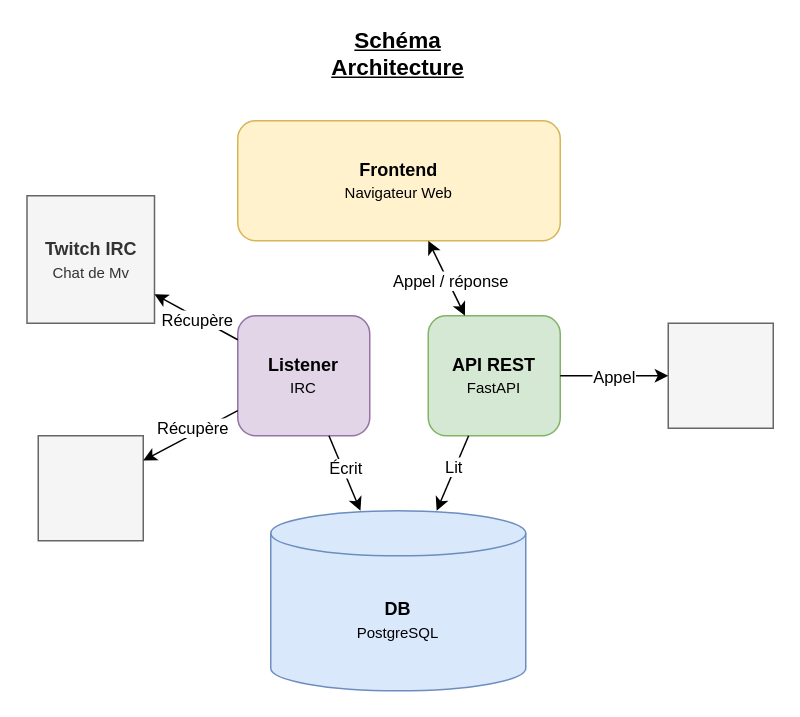
This 800x717 diagram has some shape labels left out. The box of each missing label's shape, as (x1, y1, x2, y2) in pixels:
BTTV - FFZ API: (37, 434, 143, 541)
Helix API: (667, 322, 773, 428)
